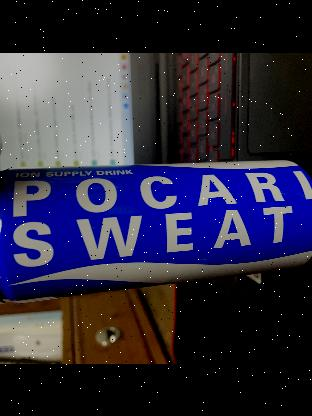Can: (0, 154, 312, 301)
